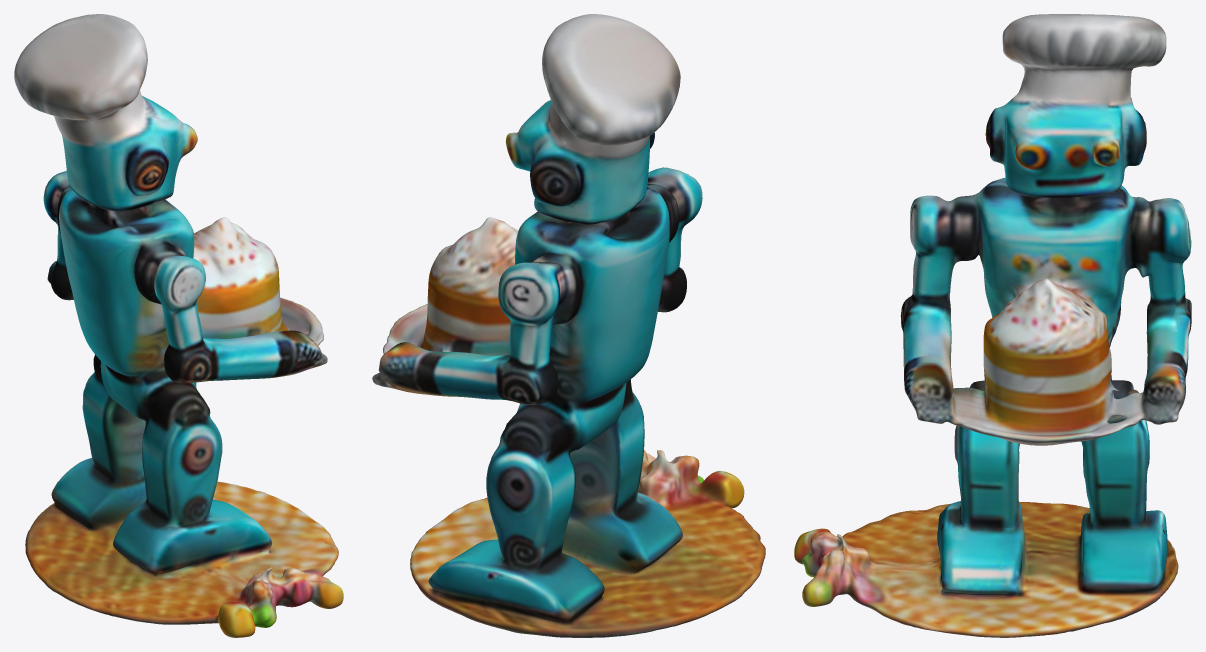
Rendered from 7dcb0c08-8c03-45db-ba3c-a5f9202cf750.glb.
3 renders of one model, left to right at view 1: azimuth 30°, elevation 25°; view 2: azimuth 150°, elevation 25°; view 3: azimuth 270°, elevation 25°, orthographic. The views are drawn at different scales.
Parts seen in each view (by area): view 1: tripo_node_7dcb0c08-8c03-45db-ba3c-a5f9202cf750; view 2: tripo_node_7dcb0c08-8c03-45db-ba3c-a5f9202cf750; view 3: tripo_node_7dcb0c08-8c03-45db-ba3c-a5f9202cf750.
Part boxes in pixels (left/top/right/bottom): tripo_node_7dcb0c08-8c03-45db-ba3c-a5f9202cf750: left=14, top=14, right=343, bottom=637; tripo_node_7dcb0c08-8c03-45db-ba3c-a5f9202cf750: left=372, top=14, right=765, bottom=637; tripo_node_7dcb0c08-8c03-45db-ba3c-a5f9202cf750: left=794, top=14, right=1191, bottom=637.
Size of the model in its own units: 0.4607 by 0.8175 by 0.5358.
1 material, 1 textured.
